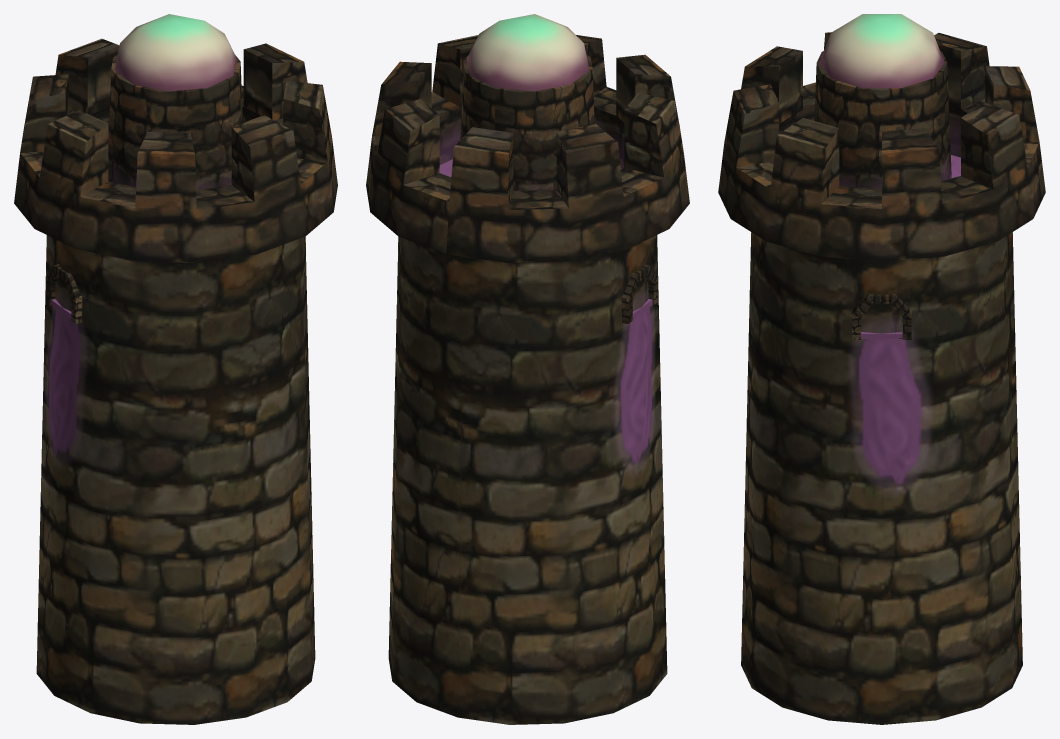
Rendered from Tower3lvl.FBX.
The picture shows the model from 3 angles, left to right: view 1: azimuth 30°, elevation 25°; view 2: azimuth 150°, elevation 25°; view 3: azimuth 270°, elevation 25°; orthographic projection.
Visible parts, largest first — view 1: Tower3lvl; view 2: Tower3lvl; view 3: Tower3lvl.
Part boxes in pixels (x1=…): Tower3lvl: x1=14, y1=14, x2=337, y2=724; Tower3lvl: x1=366, y1=14, x2=689, y2=724; Tower3lvl: x1=718, y1=14, x2=1045, y2=724.
Bounding box in the file's own units: 6.24 × 13.6 × 6.24.
1 material, 1 textured.
